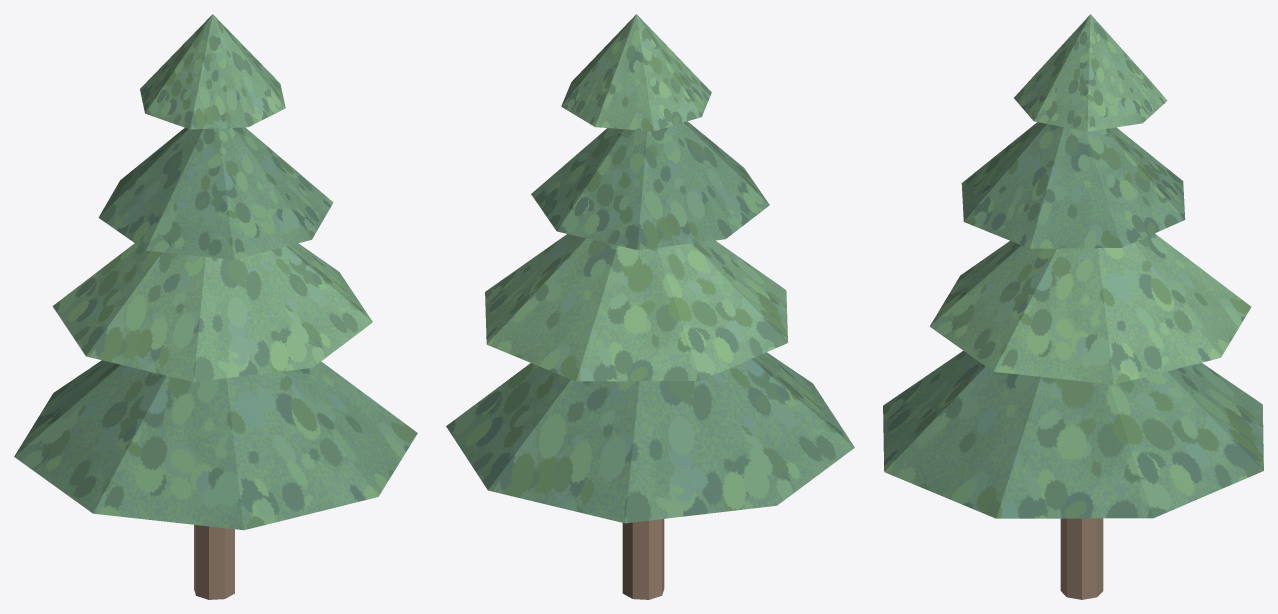
File: pine-tree.glb
The picture shows the model from 3 angles, left to right: view 1: azimuth 30°, elevation 25°; view 2: azimuth 150°, elevation 25°; view 3: azimuth 270°, elevation 25°; orthographic projection.
Parts seen in each view (by area): view 1: Pine_Foliage_1, Pine_Foliage_2, Pine_Foliage_3, Pine_Foliage_4, Pine_Trunk; view 2: Pine_Foliage_1, Pine_Foliage_2, Pine_Foliage_3, Pine_Foliage_4, Pine_Trunk; view 3: Pine_Foliage_1, Pine_Foliage_2, Pine_Foliage_3, Pine_Foliage_4, Pine_Trunk.
Boxes of the visible parts, x1=… form: Pine_Foliage_1: x1=14, y1=360, x2=417, y2=530; Pine_Foliage_2: x1=52, y1=243, x2=372, y2=381; Pine_Foliage_3: x1=98, y1=127, x2=333, y2=259; Pine_Foliage_4: x1=140, y1=14, x2=285, y2=129; Pine_Trunk: x1=194, y1=525, x2=234, y2=599; Pine_Foliage_1: x1=446, y1=352, x2=854, y2=523; Pine_Foliage_2: x1=485, y1=234, x2=787, y2=381; Pine_Foliage_3: x1=531, y1=121, x2=769, y2=249; Pine_Foliage_4: x1=561, y1=14, x2=711, y2=131; Pine_Trunk: x1=622, y1=519, x2=664, y2=599; Pine_Foliage_1: x1=883, y1=350, x2=1263, y2=518; Pine_Foliage_2: x1=929, y1=233, x2=1251, y2=384; Pine_Foliage_3: x1=961, y1=122, x2=1185, y2=248; Pine_Foliage_4: x1=1014, y1=14, x2=1167, y2=131; Pine_Trunk: x1=1060, y1=518, x2=1103, y2=599.
Size of the model in its own units: 2.22 by 3.73 by 2.22.
Materials: 3 (2 with a texture image).
